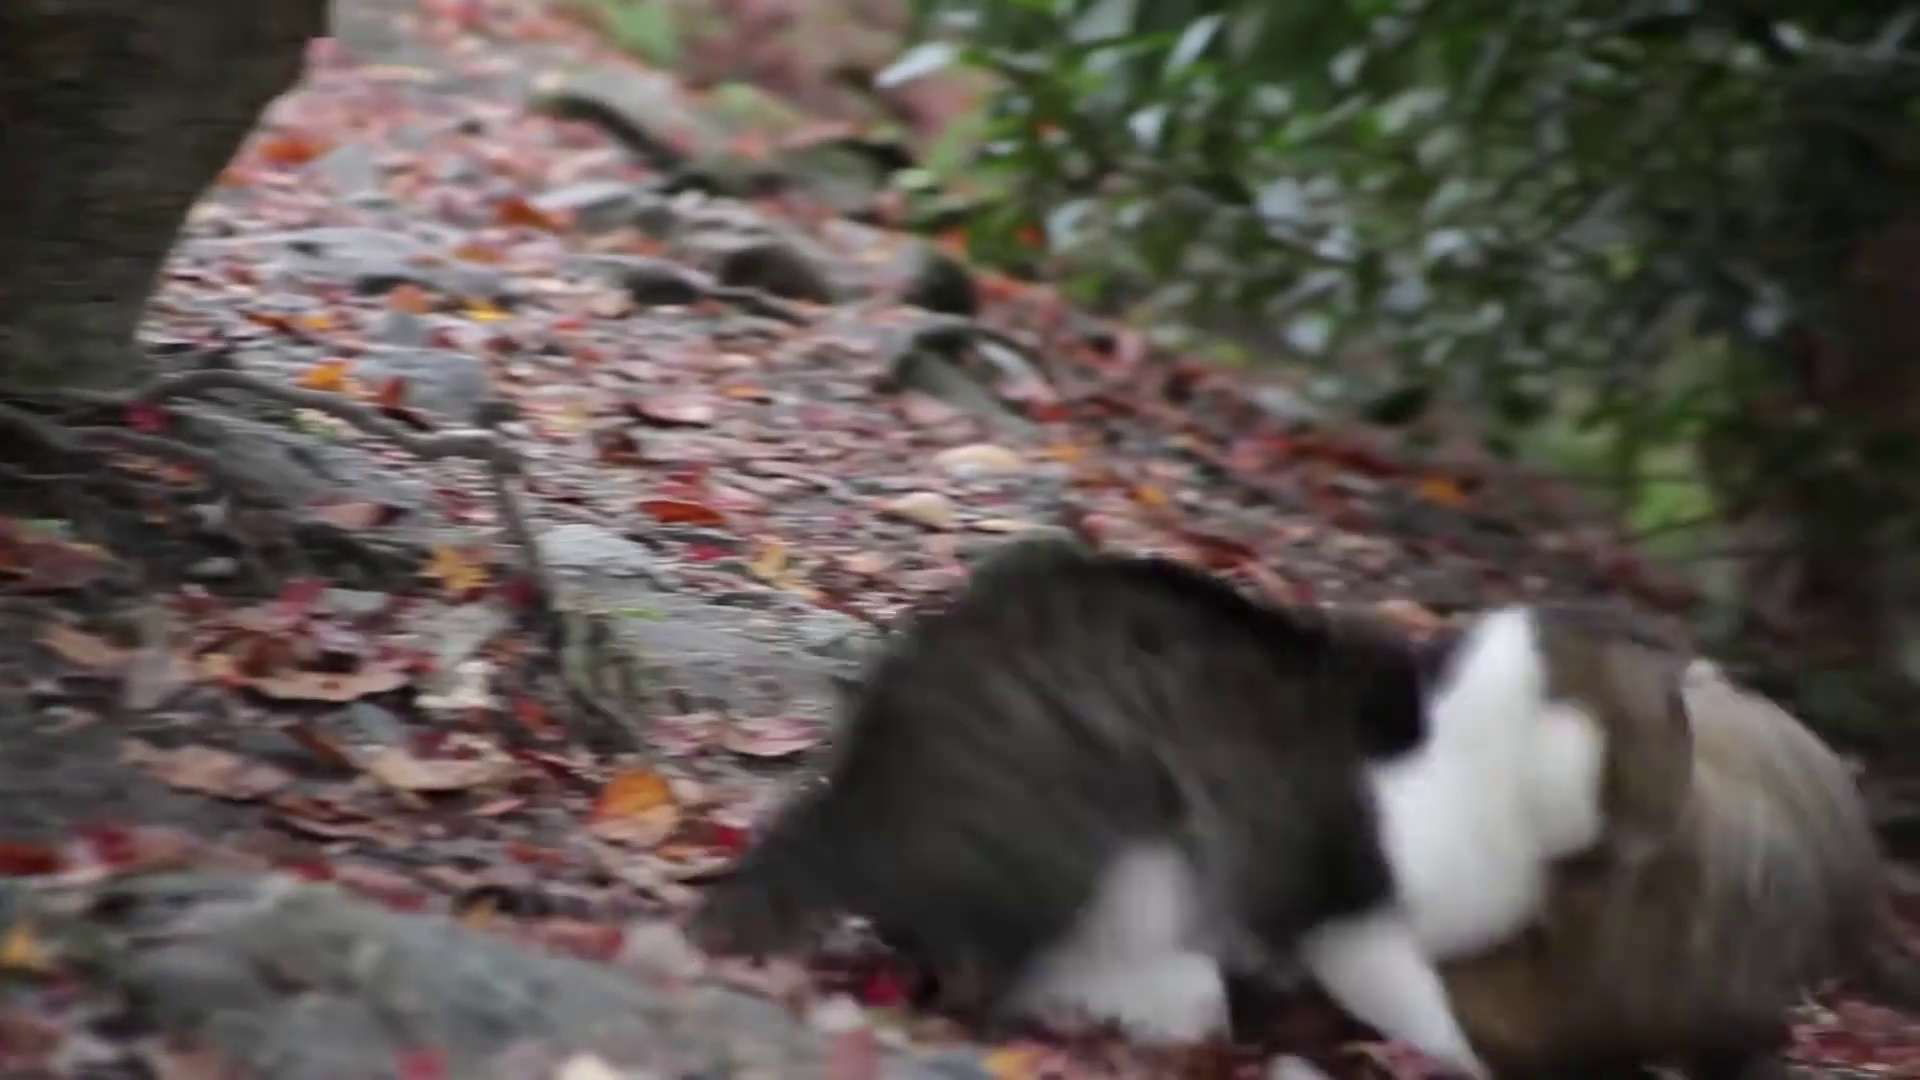black-white: (723, 551, 1695, 1075)
pure black: (1321, 653, 1920, 1080)
